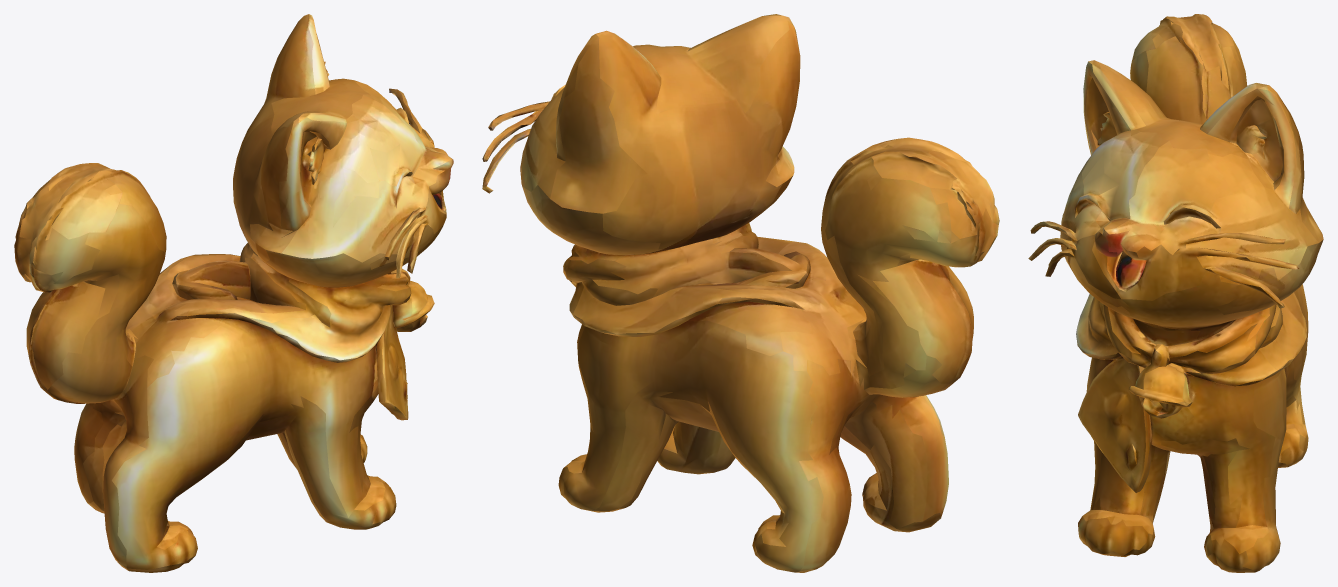
File: cat-orange-gold.glb
The picture shows the model from 3 angles, left to right: view 1: azimuth 30°, elevation 25°; view 2: azimuth 150°, elevation 25°; view 3: azimuth 270°, elevation 25°; orthographic projection. The views are drawn at different scales.
Visible parts, largest first — view 1: geometry_0; view 2: geometry_0; view 3: geometry_0.
Part boxes in pixels (<box>): geometry_0: <box>14,14,453,572</box>; geometry_0: <box>482,14,999,572</box>; geometry_0: <box>1028,14,1323,572</box>.
Bounding box in the file's own units: 0.13 × 0.13 × 0.0738.
Materials: 1 (1 with a texture image).
